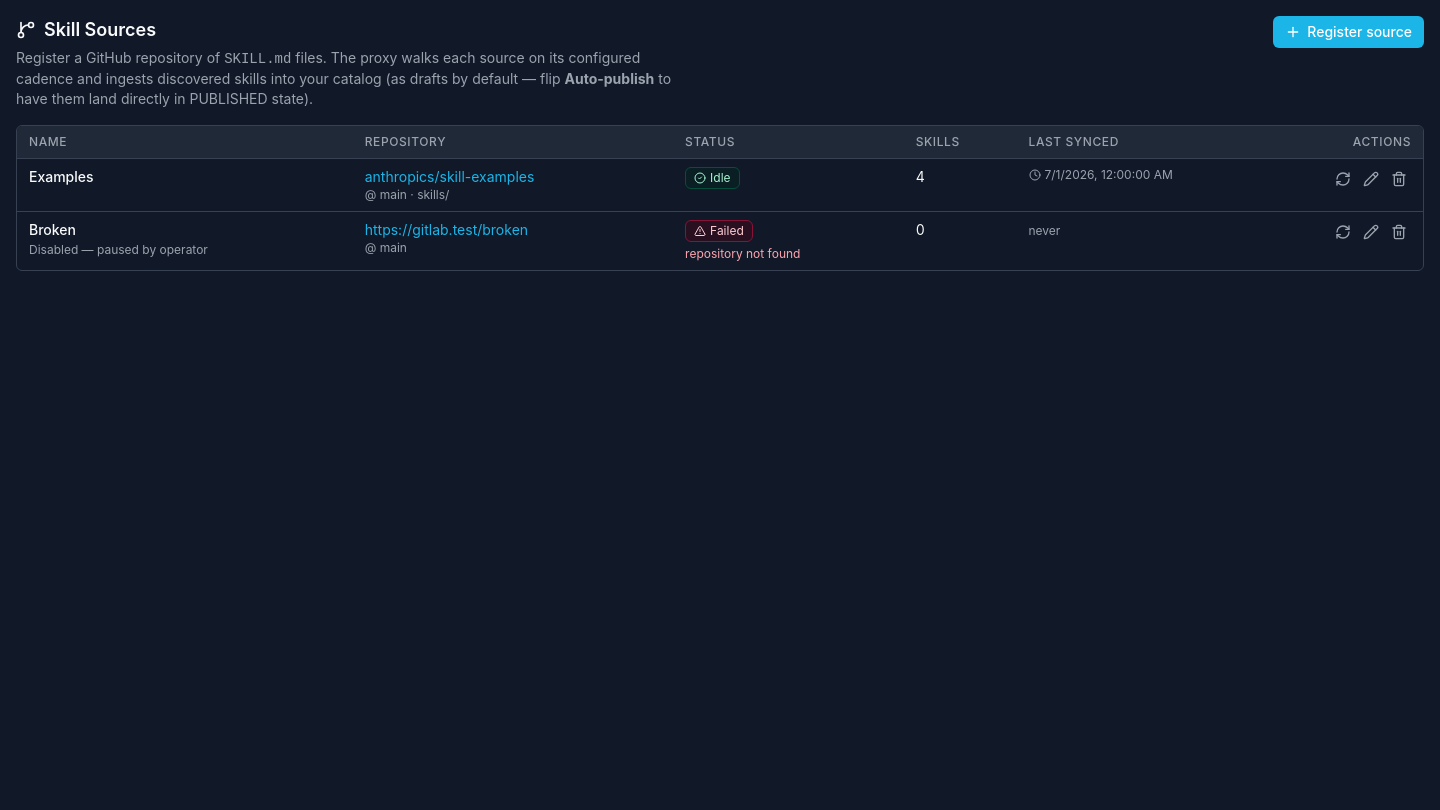
Scenario: SkillSourcesTab › edit › shows a failure
Expected: the heading "Skill Sources" is shown, [16,19,156,40]
Click the button titled "Edit" in the row of "anthropics/skill-examples": (1371, 179) [1359,167,1383,191]
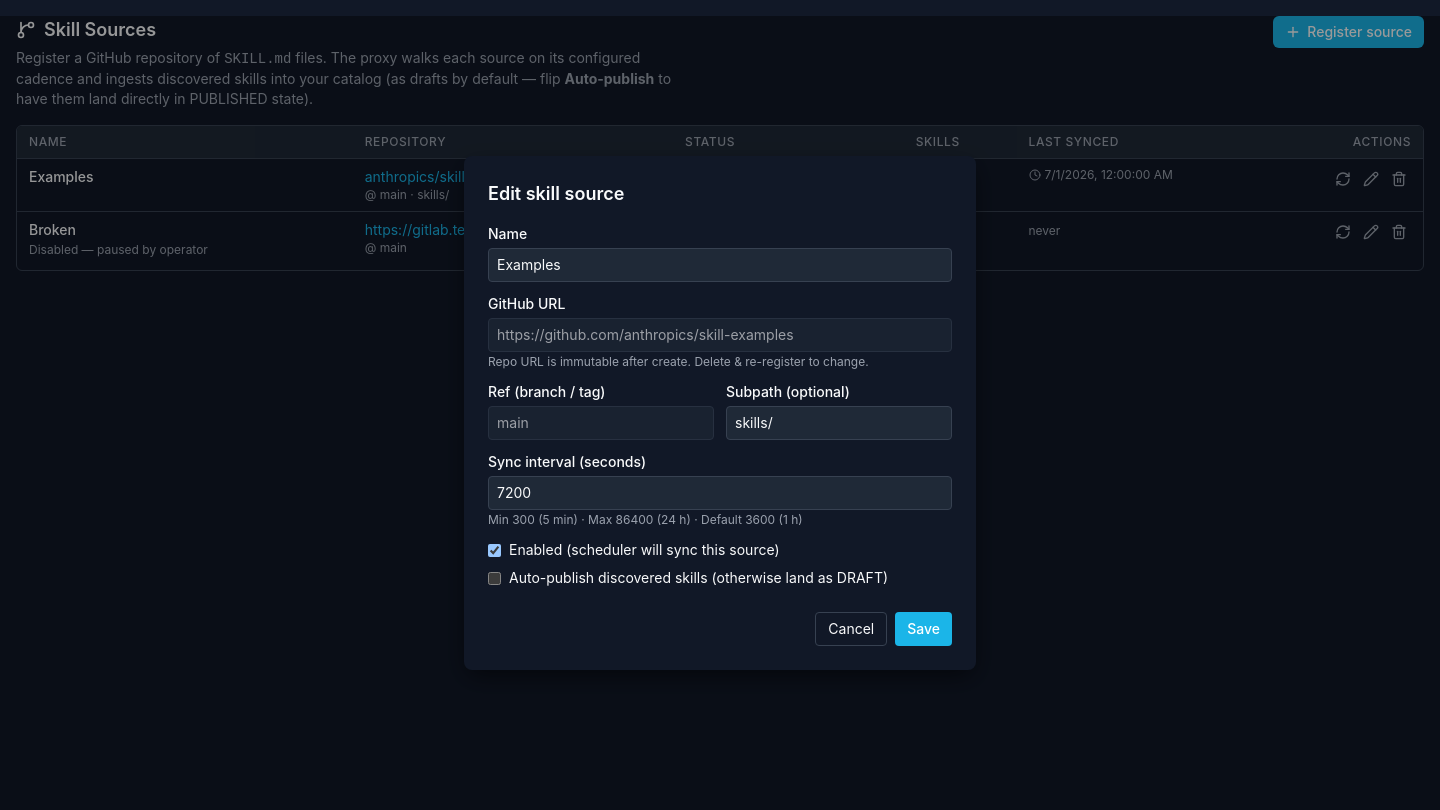
Expected: the heading "Edit skill source" is shown, [488,183,624,204]
Click the button "Save": (924, 629) [895,612,952,646]
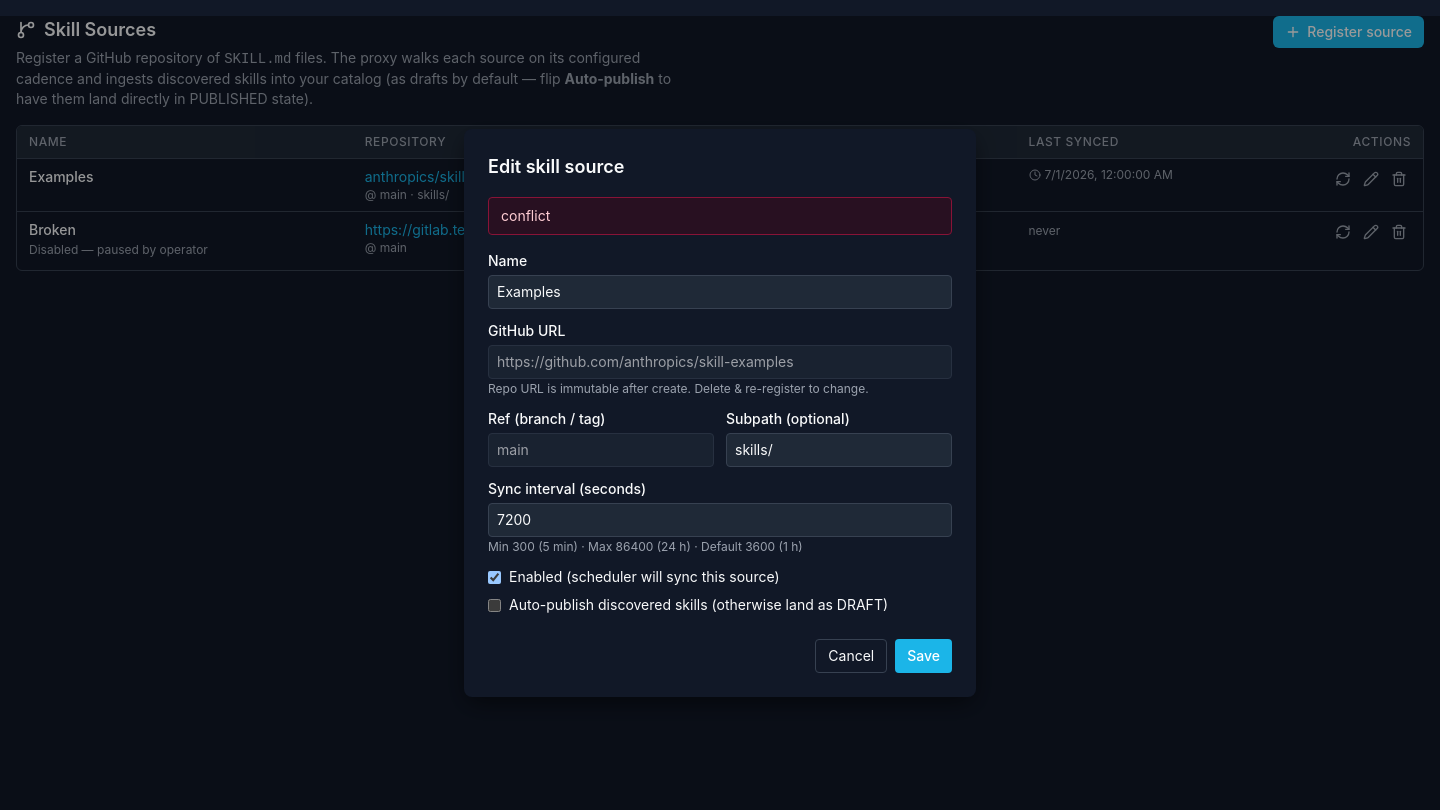
Expected: the text "conflict" is shown, [488,197,952,235]
